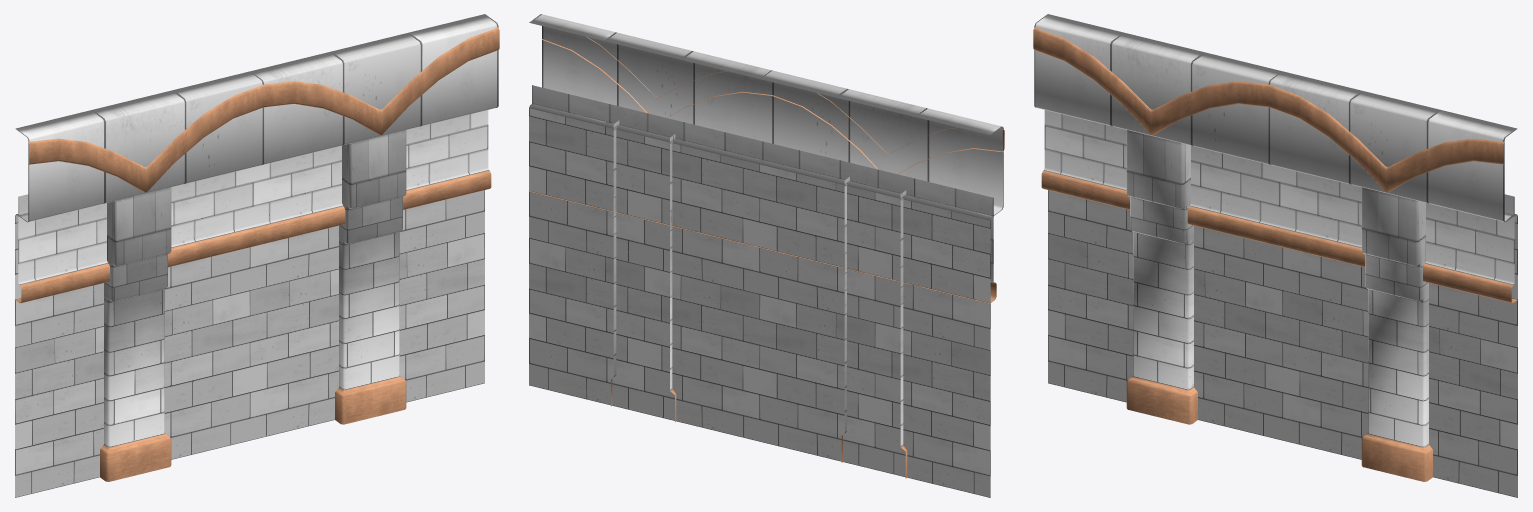
File: SM_Facade_03.fbx
3 views of the same model, side by side, from view 1: azimuth 30°, elevation 25°; view 2: azimuth 150°, elevation 25°; view 3: azimuth 330°, elevation 25° (orthographic).
Visible parts, largest first — view 1: SM_Facade_03; view 2: SM_Facade_03; view 3: SM_Facade_03.
Boxes of the visible parts, x1,y1,x2,y2 form: SM_Facade_03: (15,14,499,497); SM_Facade_03: (529,14,1004,497); SM_Facade_03: (1033,14,1517,497).
Bounding box in the file's own units: 640 × 40.04 × 480.
